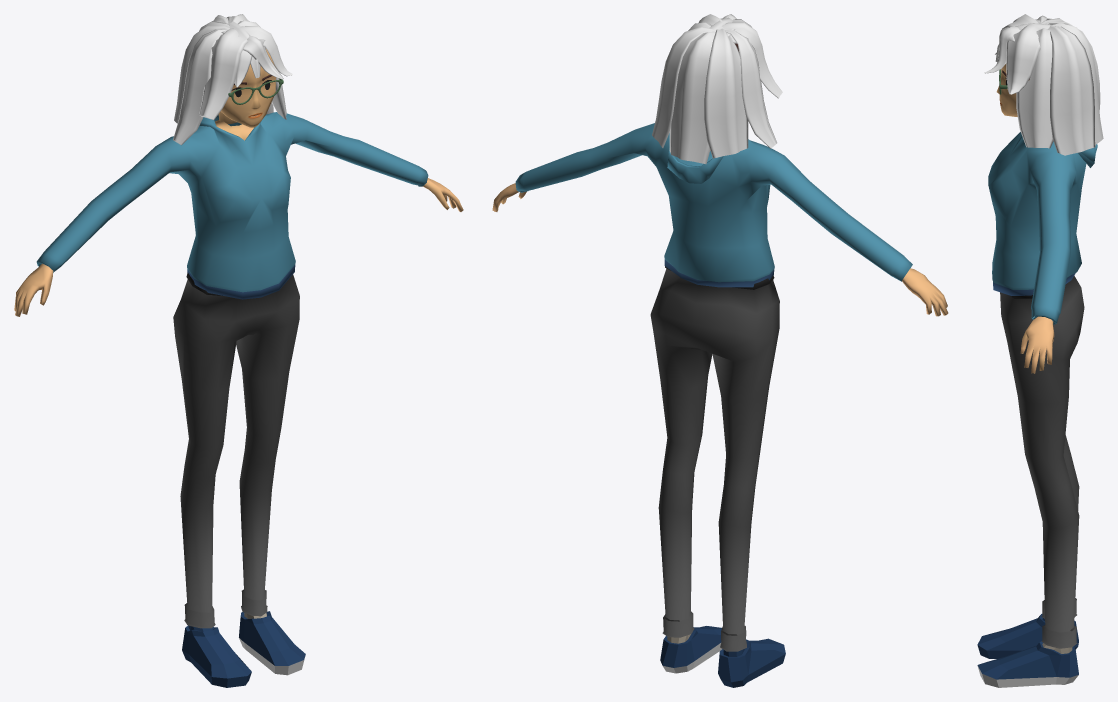
File: Character_V2.fbx
3 renders of one model, left to right at view 1: azimuth 30°, elevation 25°; view 2: azimuth 150°, elevation 25°; view 3: azimuth 270°, elevation 25°, orthographic.
Parts seen in each view (by area): view 1: Sweatshirt T, Pants 1, Shoes 1, NurbsPath.001, NurbsPath.006, Head, NurbsPath.002, NurbsPath.005, NurbsPath.008; view 2: Pants 1, Sweatshirt T, NurbsPath.002, Shoes 1, NurbsPath.004, NurbsPath.001, NurbsPath.003, NurbsPath.006; view 3: Pants 1, Sweatshirt T, Shoes 1, NurbsPath.003, NurbsPath, NurbsPath.005, NurbsPath.004, Head, NurbsPath.008, NurbsPath.002, NurbsPath.006.
Part boxes in pixels (x1=…): Sweatshirt T: x1=14, y1=112, x2=463, y2=316; Pants 1: x1=173, y1=272, x2=299, y2=628; Shoes 1: x1=182, y1=611, x2=305, y2=687; NurbsPath.001: x1=173, y1=29, x2=227, y2=145; NurbsPath.006: x1=199, y1=28, x2=247, y2=119; Head: x1=218, y1=49, x2=276, y2=127; NurbsPath.002: x1=174, y1=21, x2=229, y2=123; NurbsPath.005: x1=235, y1=26, x2=292, y2=76; NurbsPath.008: x1=243, y1=35, x2=283, y2=79; Pants 1: x1=650, y1=266, x2=779, y2=651; Sweatshirt T: x1=492, y1=123, x2=948, y2=316; NurbsPath.002: x1=704, y1=28, x2=748, y2=158; Shoes 1: x1=660, y1=626, x2=785, y2=687; NurbsPath.004: x1=669, y1=31, x2=715, y2=164; NurbsPath.001: x1=725, y1=30, x2=776, y2=148; NurbsPath.003: x1=652, y1=27, x2=715, y2=147; NurbsPath.006: x1=722, y1=19, x2=782, y2=98; Pants 1: x1=1000, y1=276, x2=1084, y2=648; Sweatshirt T: x1=988, y1=132, x2=1097, y2=373; Shoes 1: x1=977, y1=614, x2=1078, y2=687; NurbsPath.003: x1=1048, y1=25, x2=1095, y2=155; NurbsPath: x1=1016, y1=28, x2=1053, y2=148; NurbsPath.005: x1=1006, y1=23, x2=1040, y2=94; NurbsPath.004: x1=1050, y1=23, x2=1103, y2=147; Head: x1=996, y1=63, x2=1029, y2=116; NurbsPath.008: x1=984, y1=27, x2=1020, y2=73; NurbsPath.002: x1=1040, y1=18, x2=1100, y2=109; NurbsPath.006: x1=1001, y1=14, x2=1039, y2=72.
Size of the model in its own units: 1.4 by 1.9 by 0.3388.
